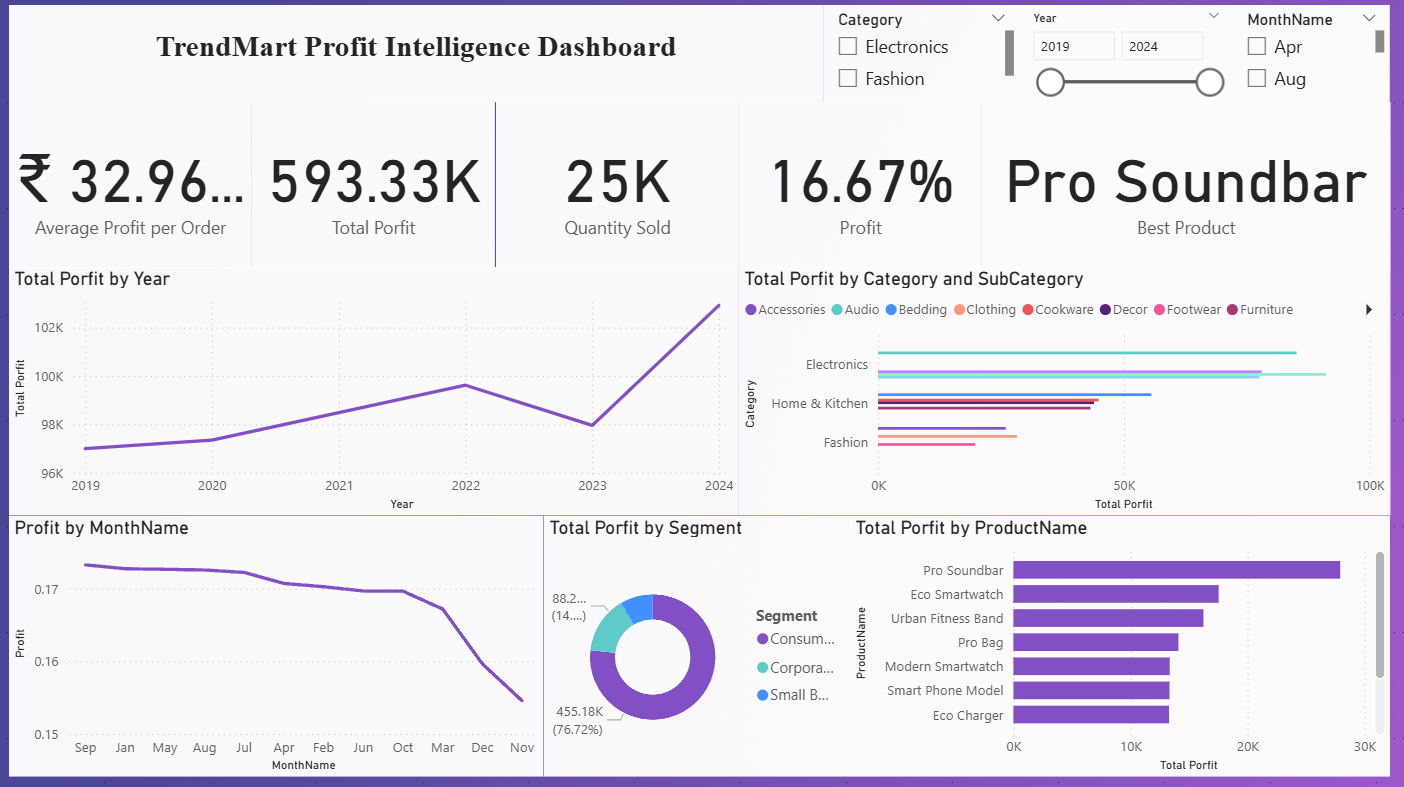

This screenshot's page, from the dashboard's own definition file:
{"tool":"powerbi","page":{"name":"Profit Intelligence","canvas":[1280,720],"ordinal":1},"visuals":[{"type":"textbox","box":[10.1,8.1,737.7,87.9],"z":0},{"type":"slicer","fields":{"Values":["products.Category"]},"box":[747.8,8.1,176.8,87.9],"z":1000},{"type":"slicer","fields":{"Values":["calendar.Year"]},"box":[924.6,8.1,194,87.9],"z":2000},{"type":"slicer","fields":{"Values":["calendar.MonthName"]},"box":[1118.7,8.1,142.5,87.9],"z":3000},{"type":"card","fields":{"Values":["measures (2).Average Profit per Order"]},"box":[10.1,96,220.3,149.6],"z":4000},{"type":"card","fields":{"Values":["measures (2).Total Porfit"]},"box":[230.4,96,220.3,149.6],"z":5000},{"type":"card","fields":{"Values":["measures (2).Quantity Sold"]},"box":[450.7,96,220.3,149.6],"z":6000},{"type":"card","fields":{"Values":["measures (2).Profit"]},"box":[671,96,220.3,149.6],"z":7000},{"type":"card","fields":{"Values":["measures (2).Best Product"]},"box":[891.3,96,369.9,149.6],"z":8000},{"type":"lineChart","fields":{"Y":["measures (2).Total Porfit"],"Category":["calendar.Date.Variation.Date Hierarchy.Year","calendar.Date.Variation.Date Hierarchy.Quarter","calendar.Date.Variation.Date Hierarchy.Month","calendar.Date.Variation.Date Hierarchy.Day"]},"box":[10.1,245.6,660.9,225.3],"z":9000},{"type":"clusteredBarChart","fields":{"Series":["products.SubCategory"],"Category":["products.Category"],"Y":["measures (2).Total Porfit"]},"box":[671,245.6,590.1,225.3],"z":10000},{"type":"lineChart","fields":{"Y":["measures (2).Profit"],"Category":["calendar.MonthName"]},"box":[10.1,470.9,484,236.5],"z":11000},{"type":"donutChart","fields":{"Y":["measures (2).Total Porfit"],"Category":["customers.Segment"]},"box":[494.1,470.9,277.9,236.5],"z":12000},{"type":"barChart","fields":{"Y":["measures (2).Total Porfit"],"Category":["products.ProductName"]},"box":[772,471,489,236],"z":13000}]}

Visuals, with their boxes in screenshot pixels (x1, y1, x2, y2), scaled from the page's 1280x720 canvas onto the 1404x787 screenshot:
textbox: 11,9,820,105
slicer - products.Category: 820,9,1014,105
slicer - calendar.Year: 1014,9,1227,105
slicer - calendar.MonthName: 1227,9,1383,105
card - measures (2).Average Profit per Order: 11,105,253,268
card - measures (2).Total Porfit: 253,105,494,268
card - measures (2).Quantity Sold: 494,105,736,268
card - measures (2).Profit: 736,105,978,268
card - measures (2).Best Product: 978,105,1383,268
lineChart - measures (2).Total Porfit x calendar.Date.Variation.Date Hierarchy.Year: 11,268,736,515
clusteredBarChart - products.SubCategory x products.Category: 736,268,1383,515
lineChart - measures (2).Profit x calendar.MonthName: 11,515,542,773
donutChart - measures (2).Total Porfit x customers.Segment: 542,515,847,773
barChart - measures (2).Total Porfit x products.ProductName: 847,515,1383,773
